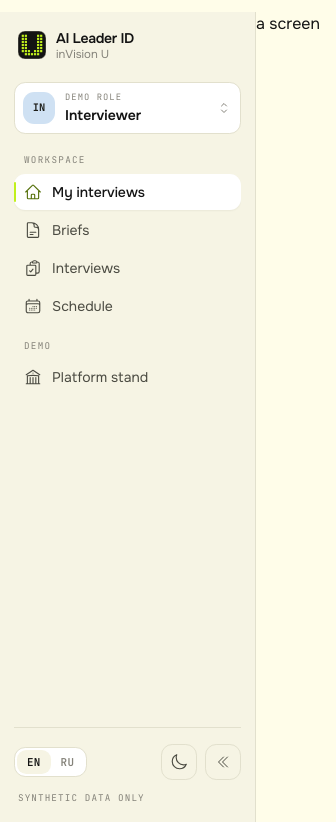
Test: switching the demo role › changes the shell in this tab at once, and writes the cookie the server reads
The width and height of the screenshot is (336, 822).
expect the text "Interviewer" is shown: met, box [65,106,141,124]
Click the button "IN Demo role Interviewer". click: [128, 108]
box: [14,82,241,134]
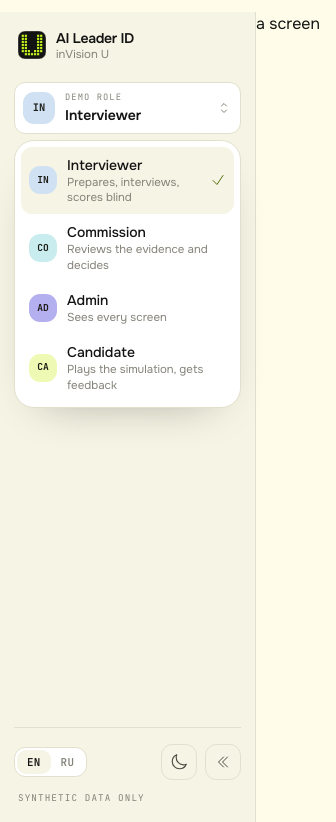
Click the menu item "CO Commission Reviews the evidence and decides". click: [128, 248]
box: [21,214,234,282]
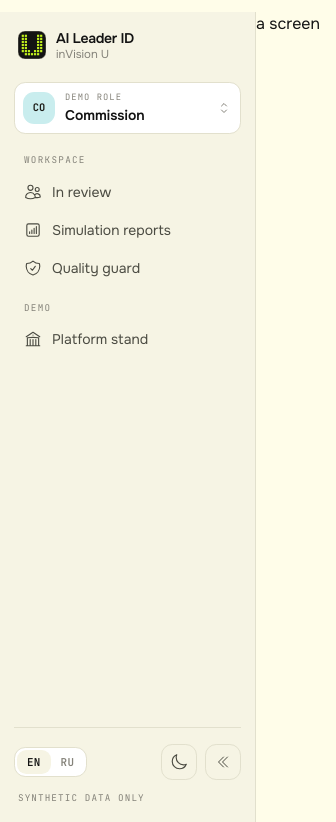
expect the text "Commission" is shown: met, box [65,106,145,124]
